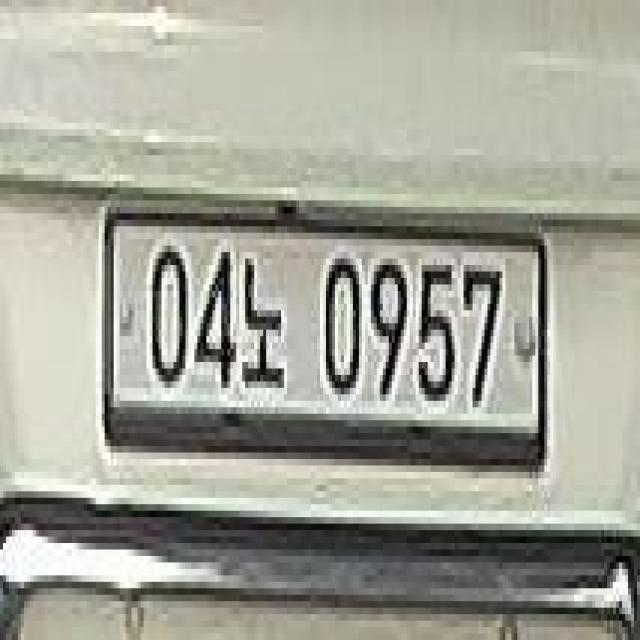illegal_plate: (100, 194, 553, 489)
